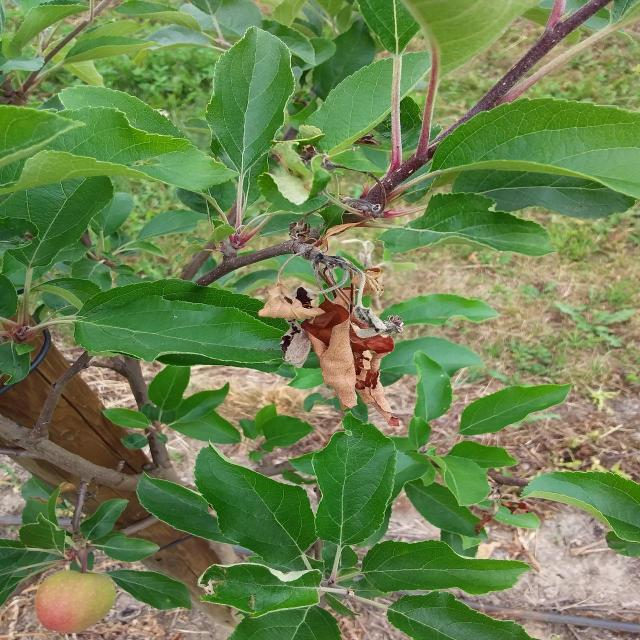-FireBlight-: (282, 183, 394, 411)
